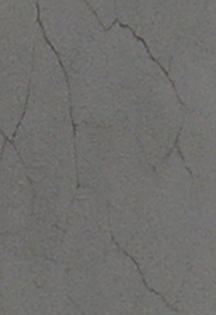fissura: (80, 2, 213, 188), (6, 1, 89, 212), (91, 212, 192, 315)
